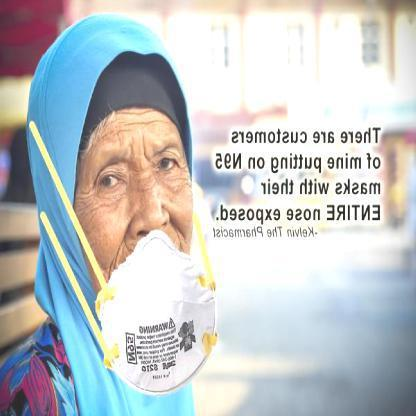mask_weared_incorrect: (80, 132, 196, 318)
